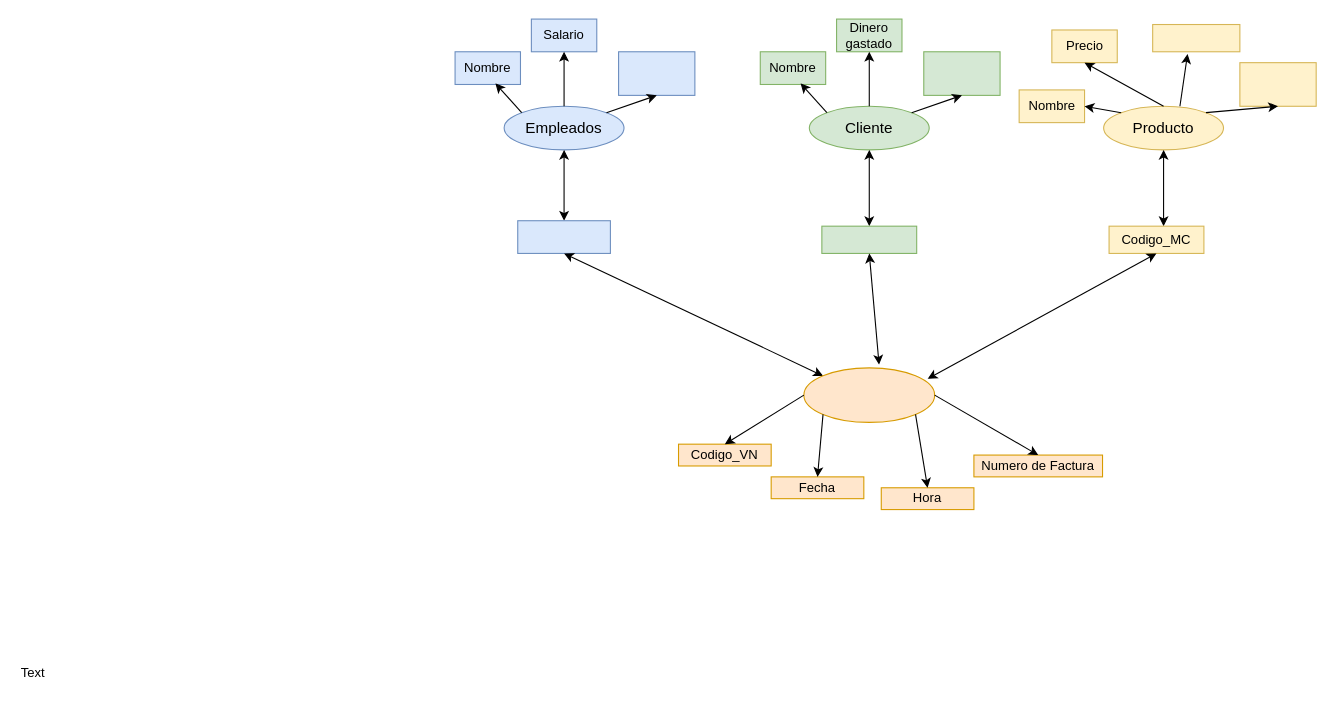
Image size: 1335x703. Some labels were removed from this diagram. Each missing label, with the box of its shape:
# de ventas al año: (617, 51, 695, 95)
Cantidad por unidad: (1239, 62, 1316, 106)
Codigo_CL: (821, 225, 917, 253)
Codigo_EP: (517, 220, 610, 253)
Dirección: (923, 51, 1000, 95)
Farmacéutica: (1152, 23, 1240, 52)
Ventas Especificas: (803, 367, 935, 422)
